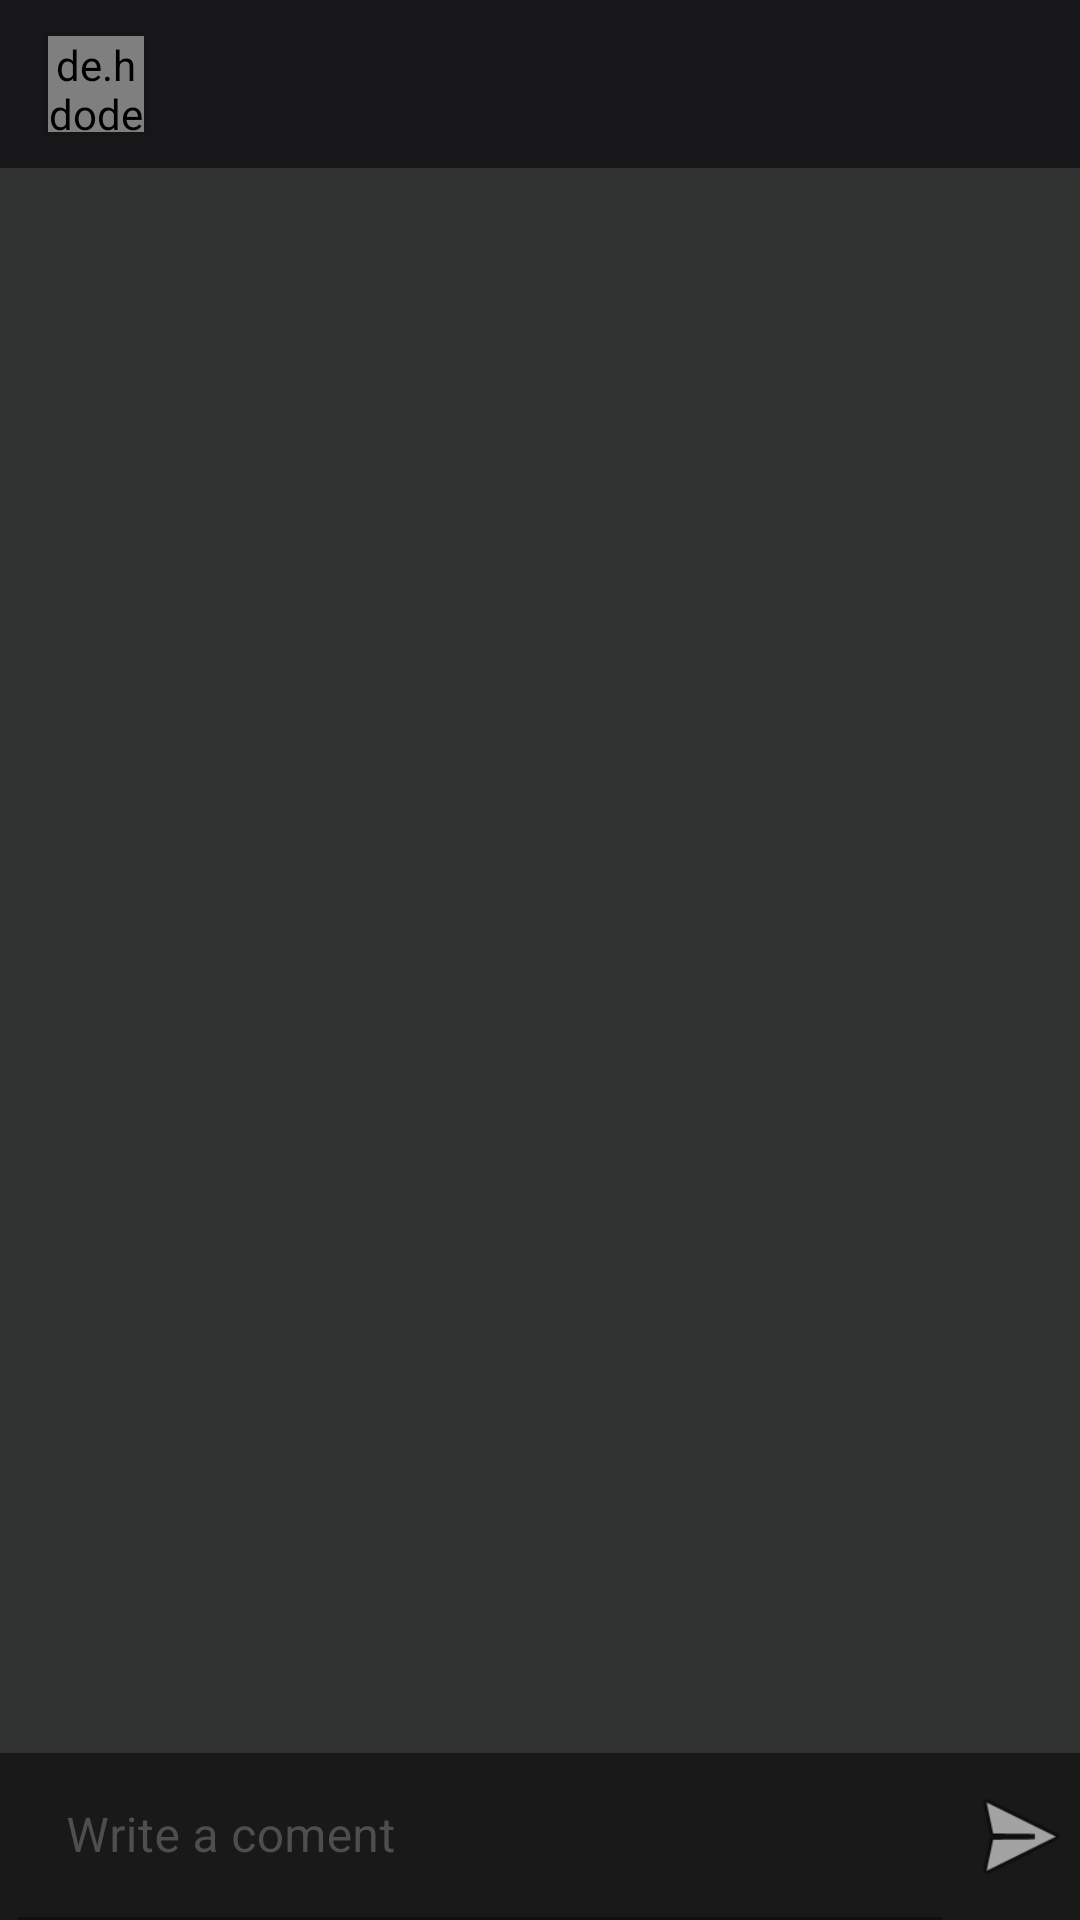

Where to tap for icons on this 1080px×1920px app screen, as (x,y):
send: (1021,1836)
